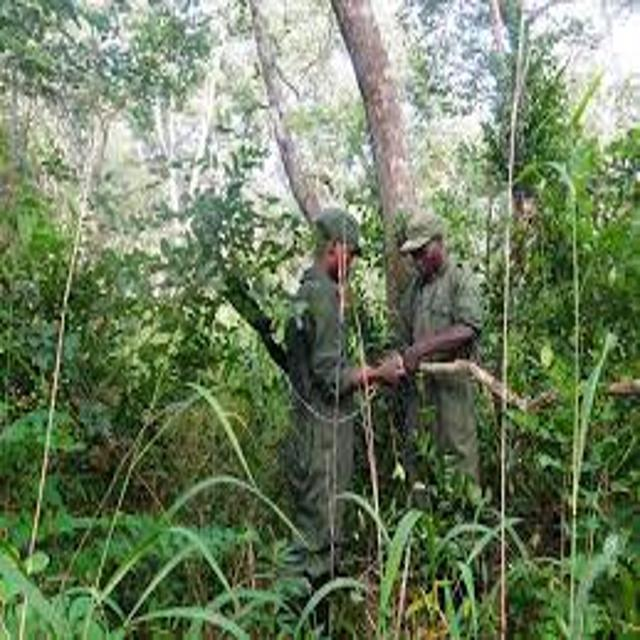poacher: (234, 192, 415, 611), (372, 190, 530, 536)
